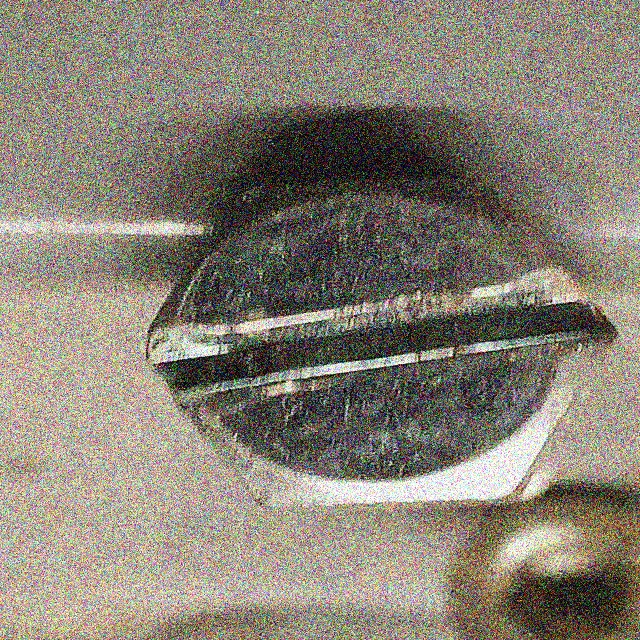duz: (142, 171, 618, 512)
